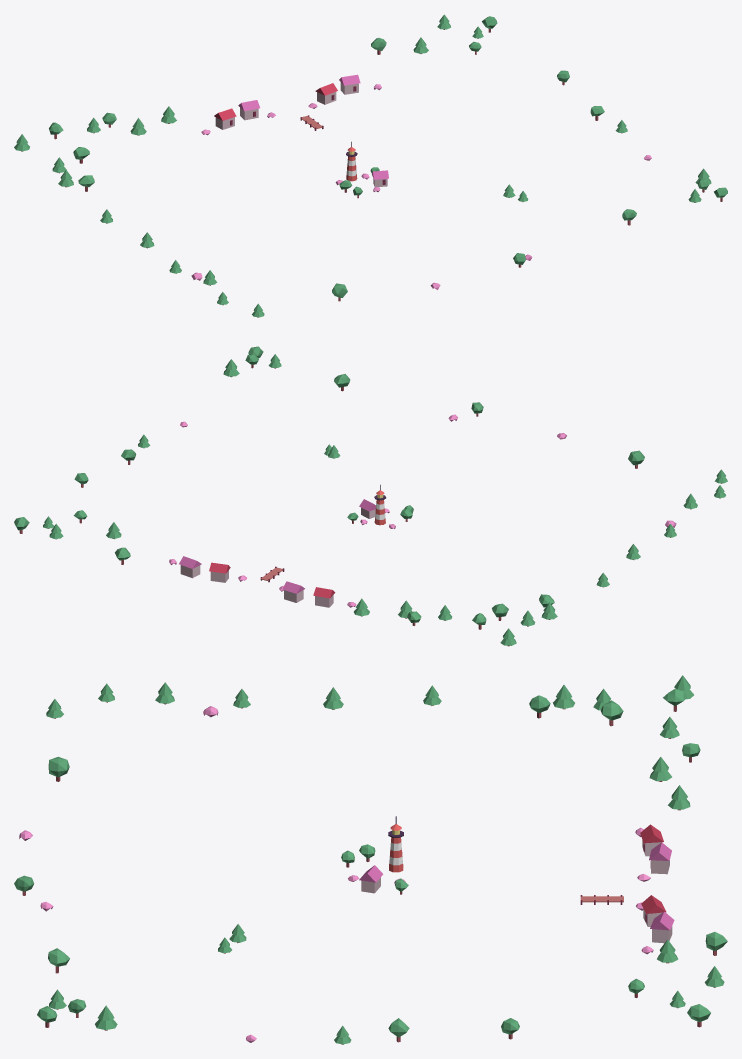
The model's file is props.glb.
3 views of the same model, one above another, from view 1: azimuth 30°, elevation 25°; view 2: azimuth 150°, elevation 25°; view 3: azimuth 270°, elevation 25° (orthographic). The views are drawn at different scales.
Visible parts, largest first — view 1: Mesh; view 2: Mesh; view 3: Mesh.
Part boxes in pixels (x1,y1,x2,y2): Mesh: [14, 14, 727, 317]; Mesh: [14, 346, 727, 646]; Mesh: [14, 675, 727, 1044].
Bounding box in the file's own units: 97.12 × 8.31 × 85.88.
